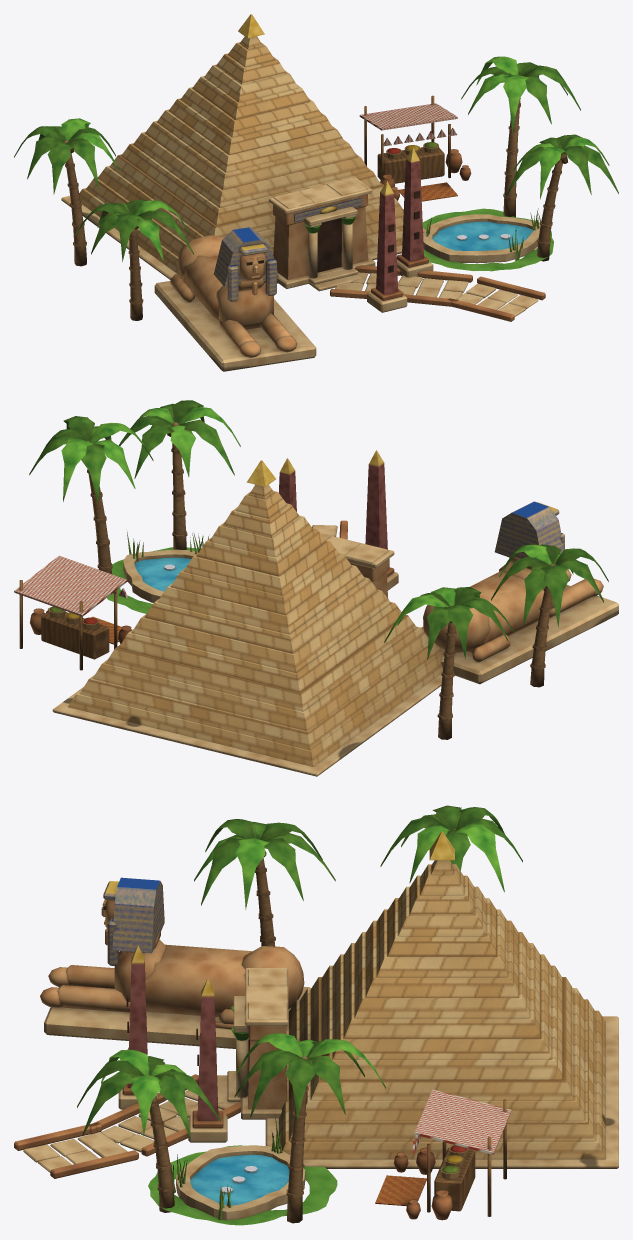
The model's file is GizaPyramids_Buildings.fbx.
3 views of the same model, one above another, from view 1: azimuth 30°, elevation 25°; view 2: azimuth 150°, elevation 25°; view 3: azimuth 270°, elevation 25° (orthographic). The views are drawn at different scales.
Visible parts, largest first — view 1: S02_PyramidBase, S03_PyramidTop, S05_SphinxBody, S04_TempleGate, S08_OasisPool, S10_MarketTent, S01_StonePath, S09_Palm_3, S09_Palm_1, S09_Palm_0, S09_Palm_2, S06_SphinxHead (+2 smaller); view 2: S02_PyramidBase, S03_PyramidTop, S05_SphinxBody, S10_MarketTent, S09_Palm_2, S09_Palm_0, S09_Palm_1, S09_Palm_3, S08_OasisPool, S06_SphinxHead, S07_Obelisk_1, S04_TempleGate (+1 smaller); view 3: S02_PyramidBase, S03_PyramidTop, S05_SphinxBody, S08_OasisPool, S10_MarketTent, S01_StonePath, S04_TempleGate, S09_Palm_1, S09_Palm_2, S09_Palm_0, S06_SphinxHead, S09_Palm_3 (+2 smaller).
Part boxes in pixels (box(x1,y1,x2,y2)): S02_PyramidBase: box(61, 109, 426, 283); S03_PyramidTop: box(168, 14, 333, 154); S05_SphinxBody: box(154, 235, 316, 371); S04_TempleGate: box(269, 177, 375, 291); S08_OasisPool: box(422, 208, 553, 271); S10_MarketTent: box(359, 95, 471, 201); S01_StonePath: box(330, 265, 545, 321); S09_Palm_3: box(14, 118, 118, 266); S09_Palm_1: box(461, 56, 580, 217); S09_Palm_0: box(75, 199, 193, 320); S09_Palm_2: box(506, 134, 618, 261); S06_SphinxHead: box(213, 227, 279, 301); S02_PyramidBase: box(52, 565, 454, 776); S03_PyramidTop: box(171, 460, 352, 614); S05_SphinxBody: box(421, 561, 618, 684); S10_MarketTent: box(14, 555, 131, 670); S09_Palm_2: box(119, 400, 240, 549); S09_Palm_0: box(491, 544, 608, 687); S09_Palm_1: box(29, 416, 153, 574); S09_Palm_3: box(384, 587, 513, 739); S08_OasisPool: box(107, 529, 208, 613); S06_SphinxHead: box(494, 501, 564, 569); S07_Obelisk_1: box(365, 450, 398, 590); S04_TempleGate: box(320, 533, 394, 598); S02_PyramidBase: box(265, 932, 618, 1168); S03_PyramidTop: box(365, 831, 518, 997); S05_SphinxBody: box(40, 939, 310, 1048); S08_OasisPool: box(148, 1117, 337, 1225); S10_MarketTent: box(375, 1089, 511, 1220); S01_StonePath: box(14, 1074, 241, 1178); S04_TempleGate: box(217, 968, 288, 1119); S09_Palm_1: box(234, 1033, 385, 1223); S09_Palm_2: box(77, 1049, 220, 1212); S09_Palm_0: box(194, 819, 335, 946); S06_SphinxHead: box(101, 877, 164, 965); S09_Palm_3: box(380, 805, 522, 892).
Size of the model in its own units: 17.6 by 7.11 by 14.72.
Materials: 1 (1 with a texture image).
